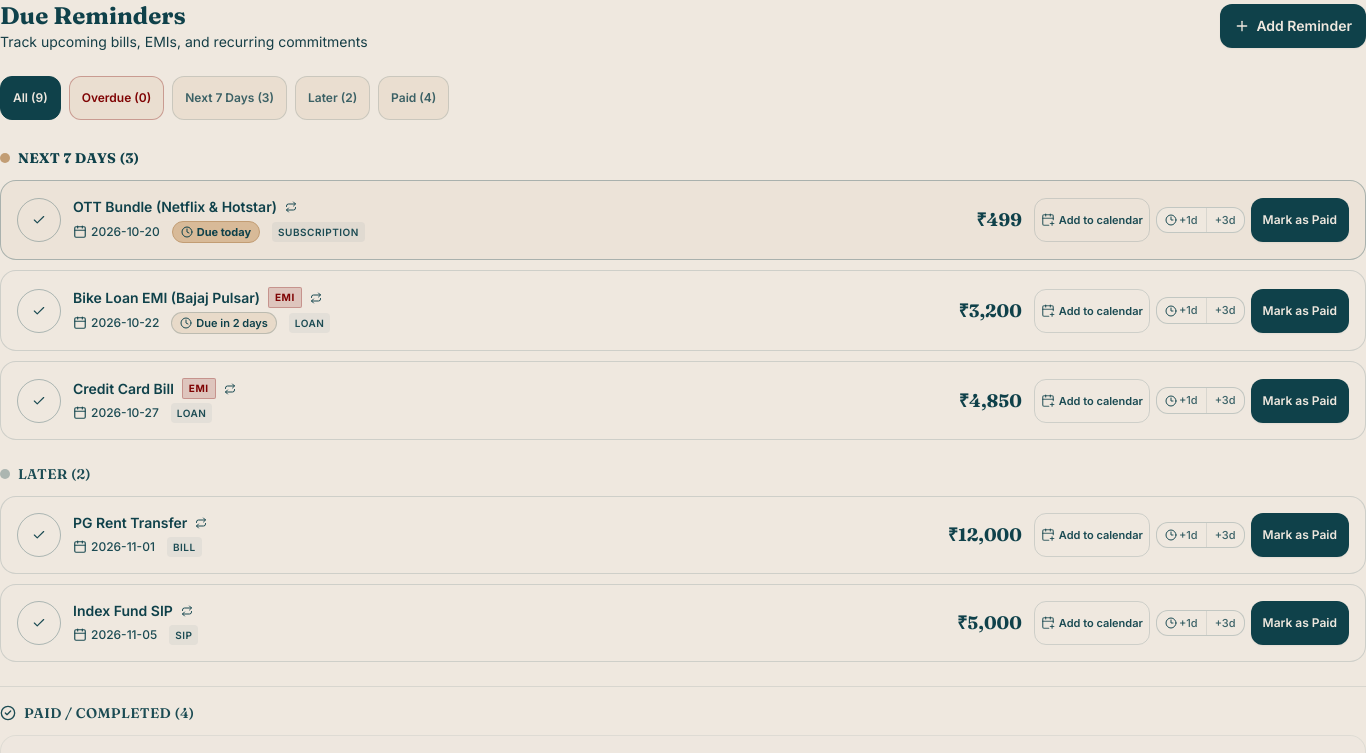
it: RemindersScreen Component Suite › marking paid removes it from Next 7 days and creates the transaction once without duplicates on reload
Expected: the heading "Bike Loan EMI (Bajaj Pulsar)" is shown, [73,288,260,308]
Expected: the element with test id "reminder-card-rem-er-bike-emi" is shown, [0,270,1365,351]
Click the button named "Mark as Paid" next to "Bike Loan EMI (Bajaj Pulsar)": x=39, y=310 [17,288,61,332]
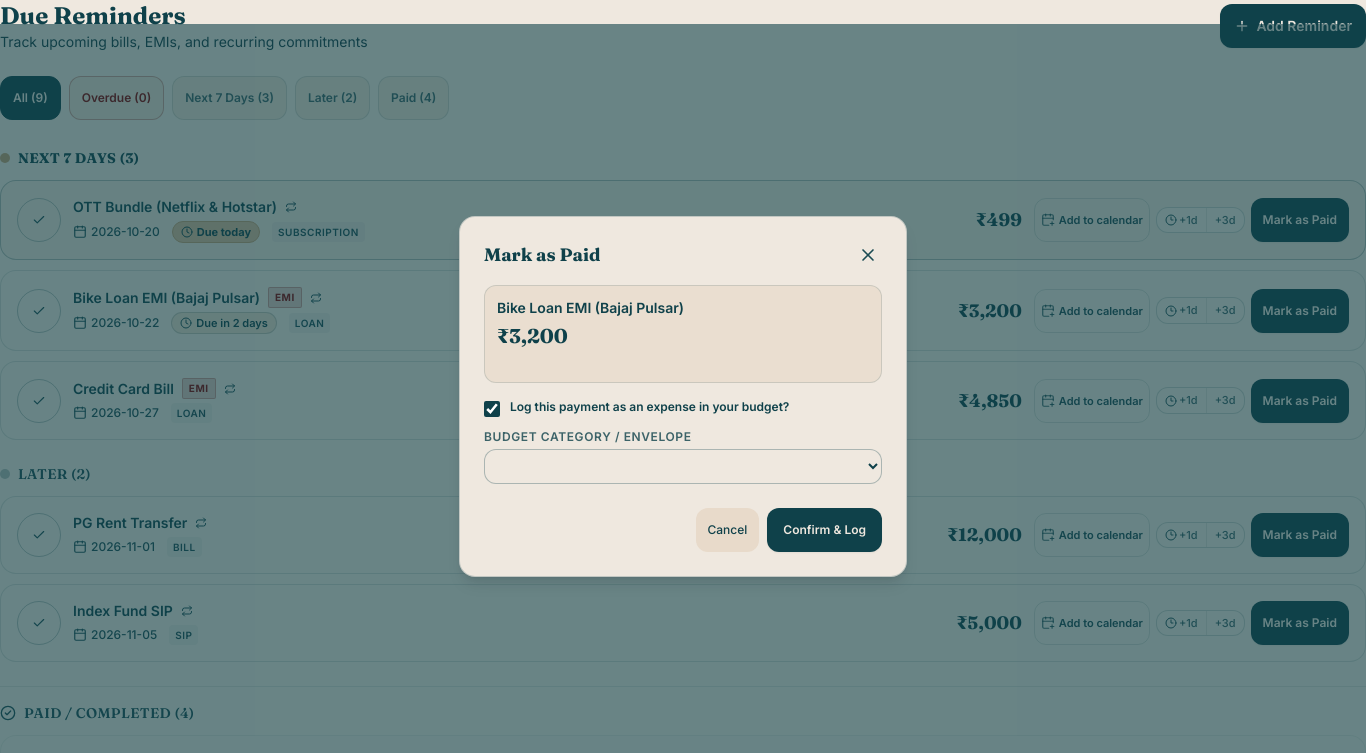
Now the heading "Mark as Paid" is shown, box [484,240,600,268]
Click the button "Confirm & Log": x=825, y=530 [767,508,882,552]
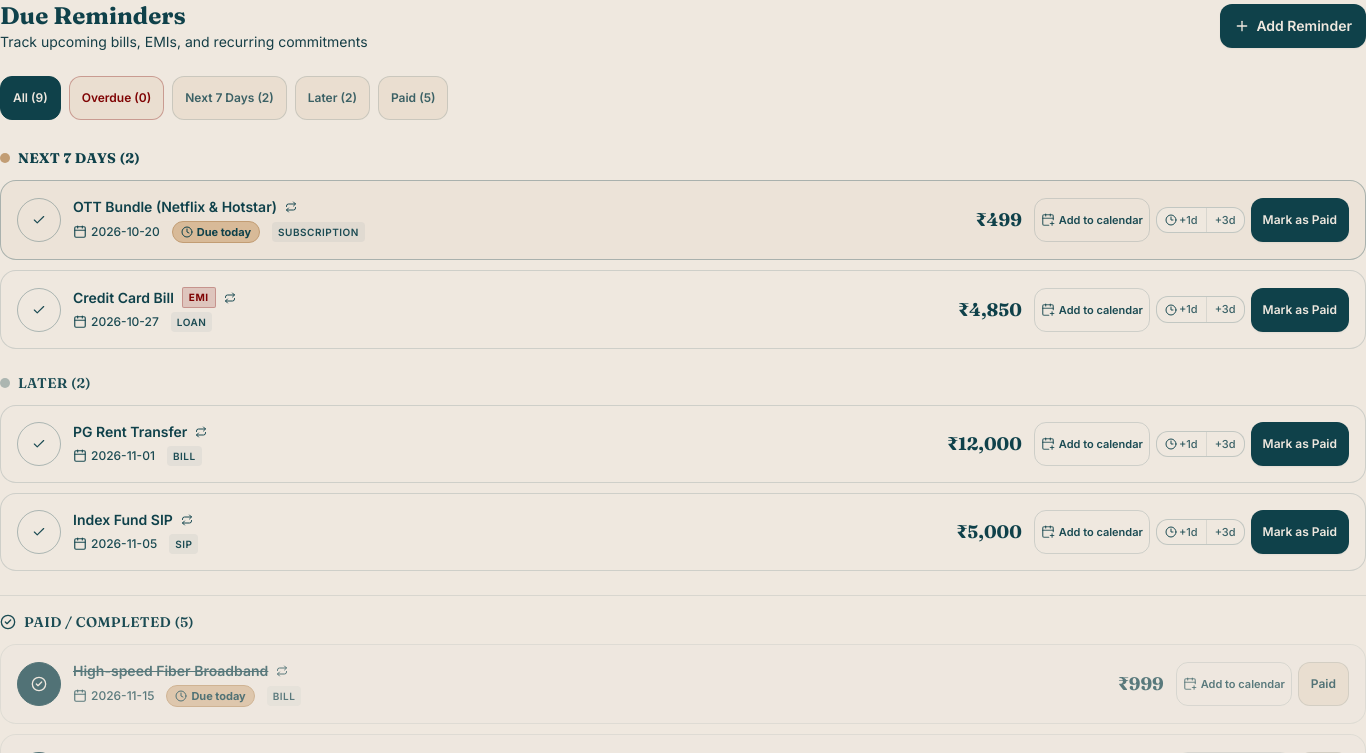
Now the heading "Next 7 Days" no longer shows "Bike Loan EMI"
